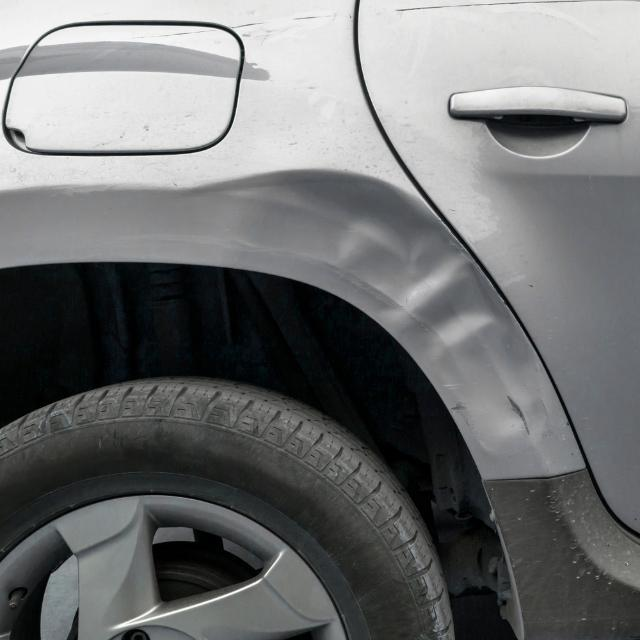dent: (184, 172, 541, 456)
